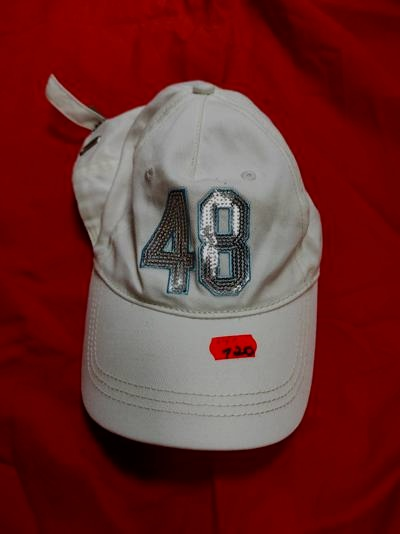Hat: (35, 66, 350, 457)
